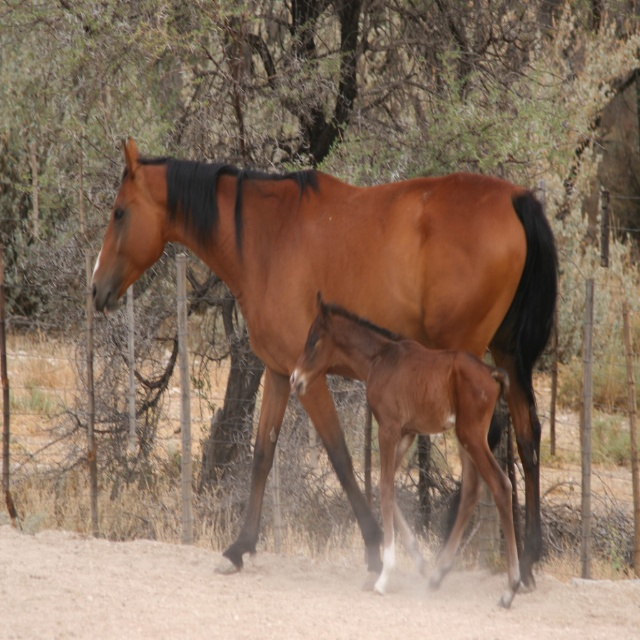Horse: (90, 135, 561, 594), (290, 291, 542, 608)
